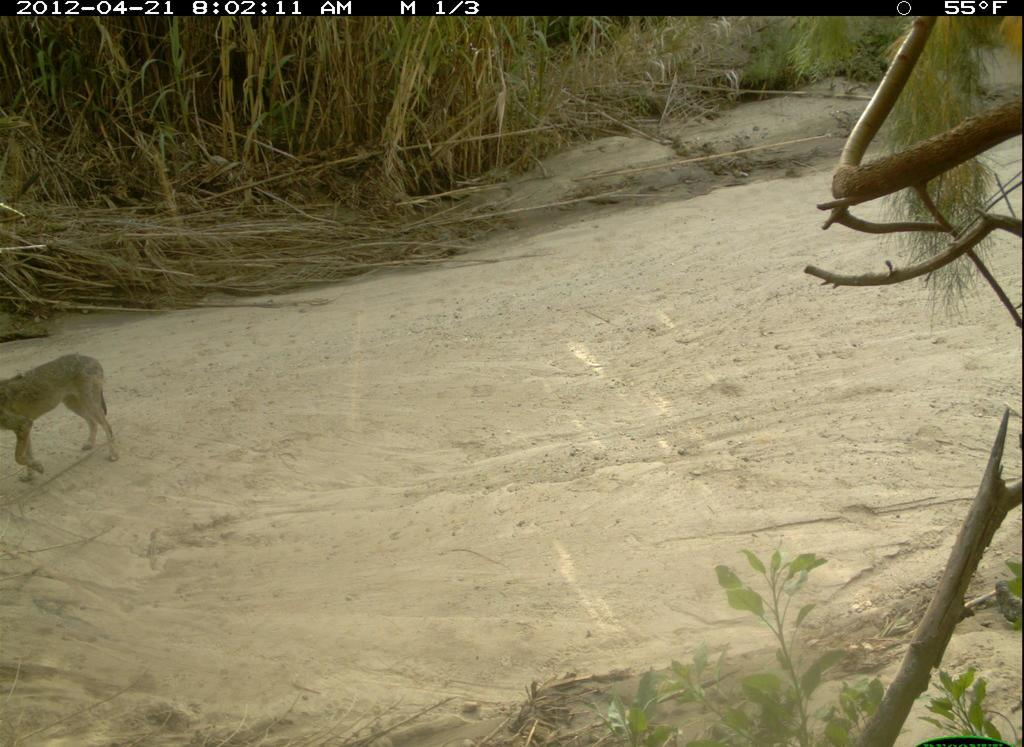coyote: (3, 337, 126, 488)
